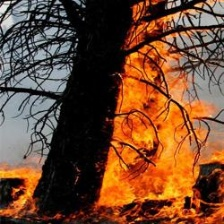fire: (132, 5, 189, 215), (192, 156, 224, 221), (109, 148, 133, 202), (1, 168, 41, 180)
